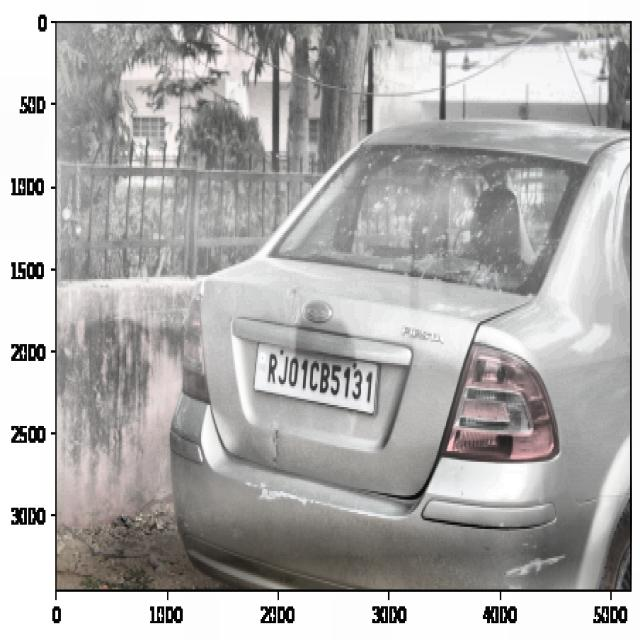license_plate: (261, 344, 378, 412)
